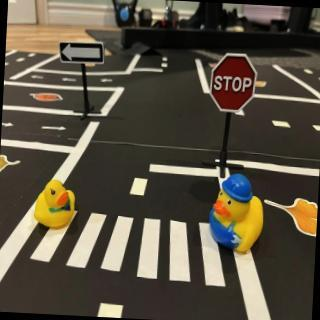duck_regular: (34, 178, 79, 233)
duck_specialty: (209, 174, 268, 257)
road_crosswalk: (25, 207, 234, 291)
road_oneway: (39, 123, 68, 135), (3, 120, 17, 133), (99, 76, 116, 86), (30, 74, 48, 82), (62, 76, 80, 84)
sign_oneway_left: (60, 42, 107, 66)
sign_stop: (210, 53, 259, 112)
